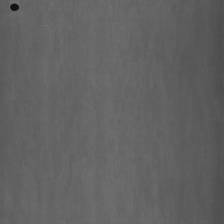punching_hole: (8, 0, 21, 15)
